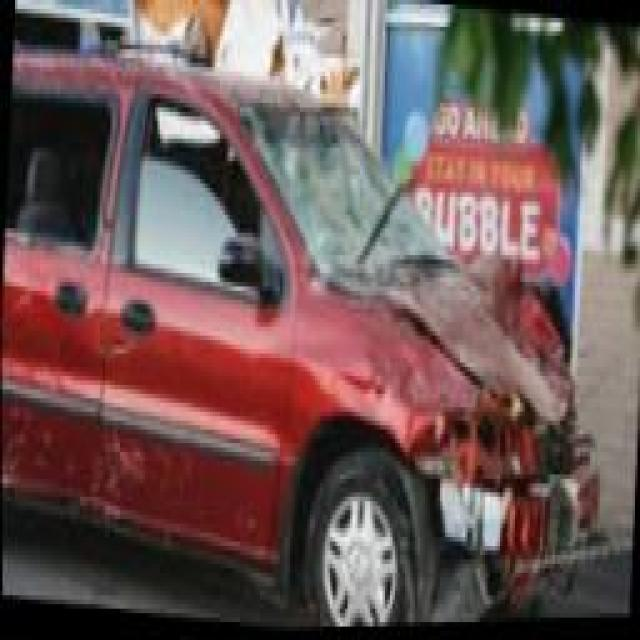Bonnet: (338, 272, 575, 427)
Bumper: (416, 416, 607, 627)
Door: (94, 400, 290, 571), (1, 391, 99, 507)
Fender: (293, 280, 473, 457)
Light: (464, 420, 548, 485)
Windshield: (240, 114, 463, 277)
